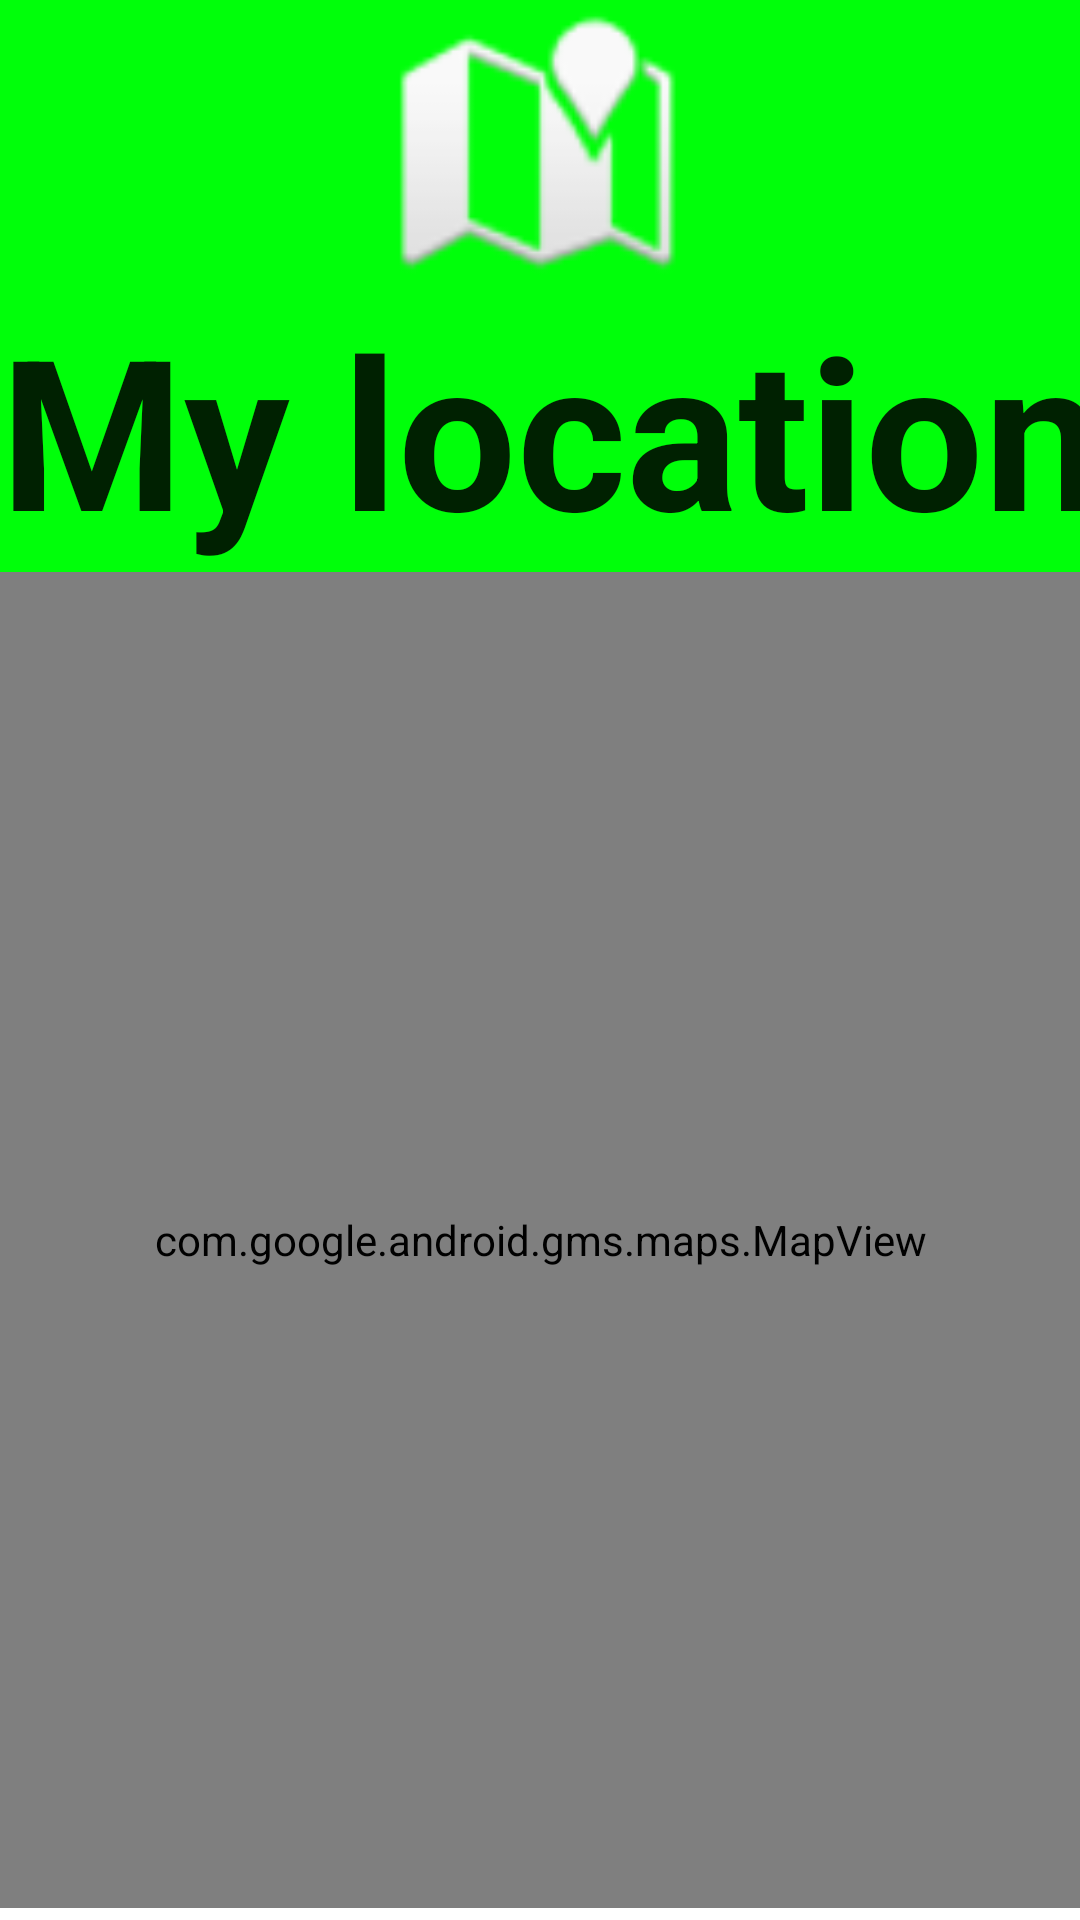

Where icons sit on this 1080×1920 app screen, as (x1, y1, x2, y2):
map: (400, 16, 675, 269)
